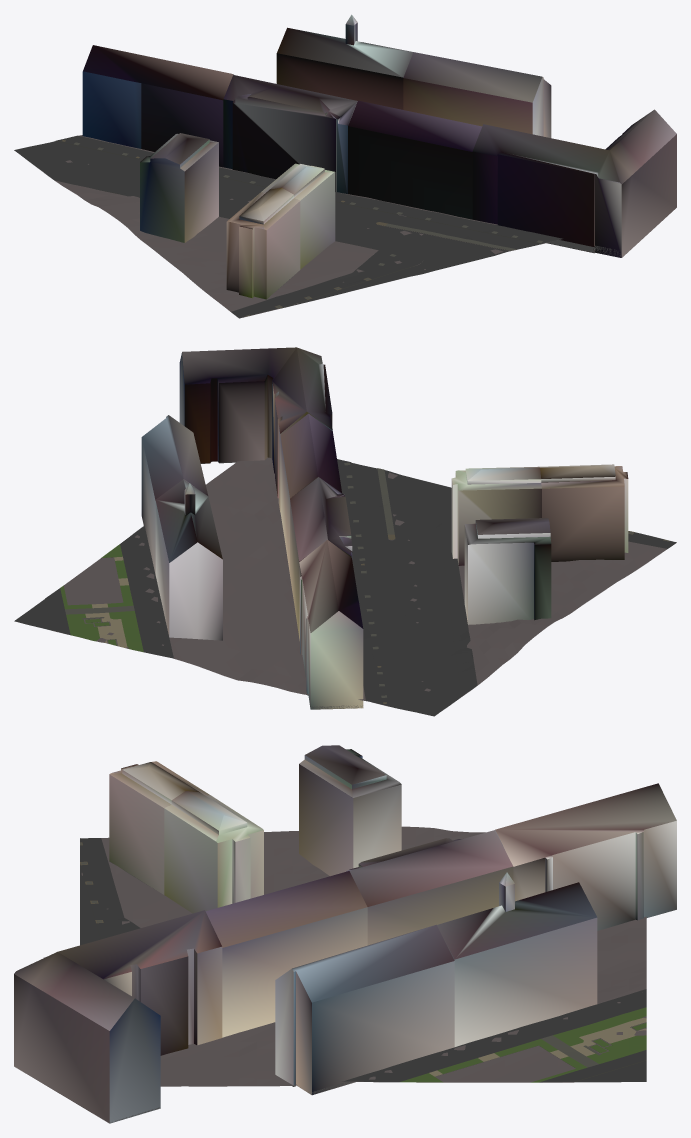
The picture shows the model from 3 angles, top to bottom: view 1: azimuth 30°, elevation 25°; view 2: azimuth 150°, elevation 25°; view 3: azimuth 270°, elevation 25°; orthographic projection. The views are drawn at different scales.
Parts seen in each view (by area): view 1: c_m14_m15; view 2: c_m14_m15; view 3: c_m14_m15.
Part boxes in pixels (x1,y1,x2,y2): c_m14_m15: (14, 14, 676, 318); c_m14_m15: (14, 347, 676, 716); c_m14_m15: (14, 745, 676, 1123).
Bounding box in the file's own units: 148 × 37.51 × 150.
